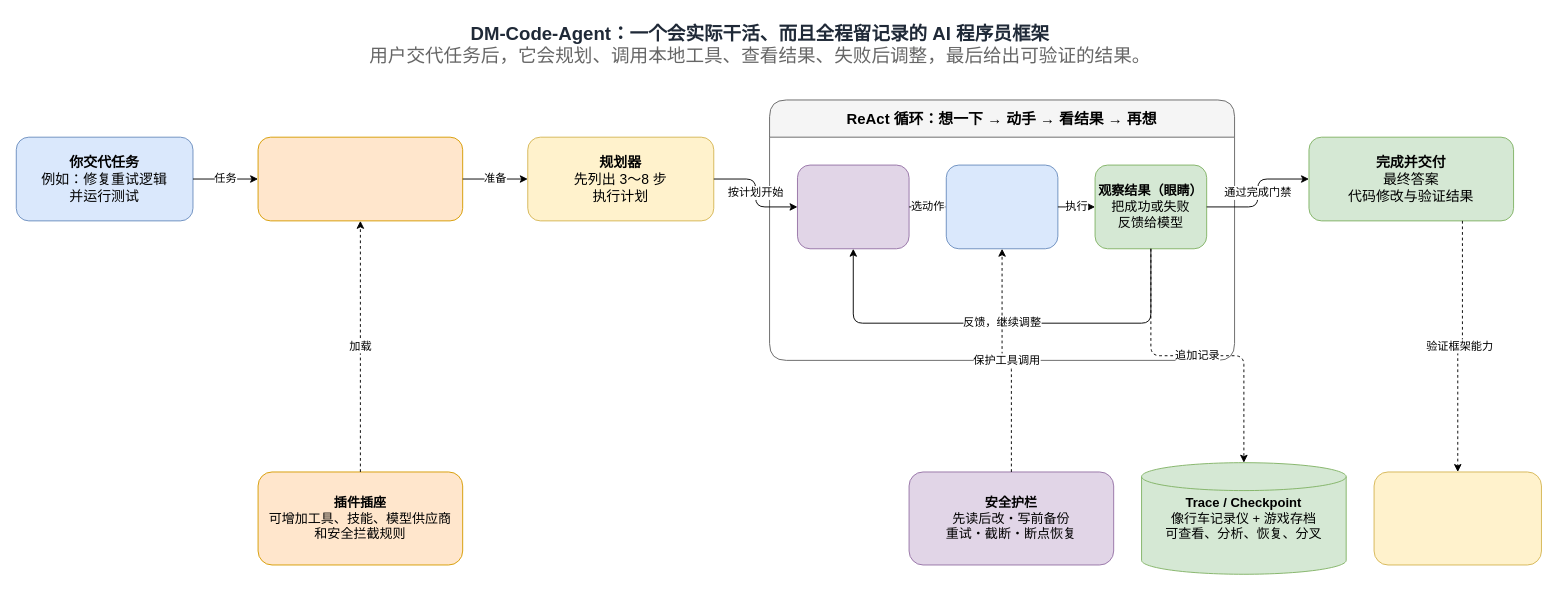
This 1558x591 diagram has some shape labels left out. The shapes that lost their labels are listed below. From the top down, each one's centre as x and y in pixels, then its label:
(360,178): CLI 组装工作台 选择模型、工具、技能 扩展和 MCP
(853,206): 大模型（脑子） 决定下一步 做什么
(1001,206): 本地工具（手） 读/改文件 命令・测试・Lint
(1457,518): Eval / Benchmark 像考试场 用测试判断是否真做对
